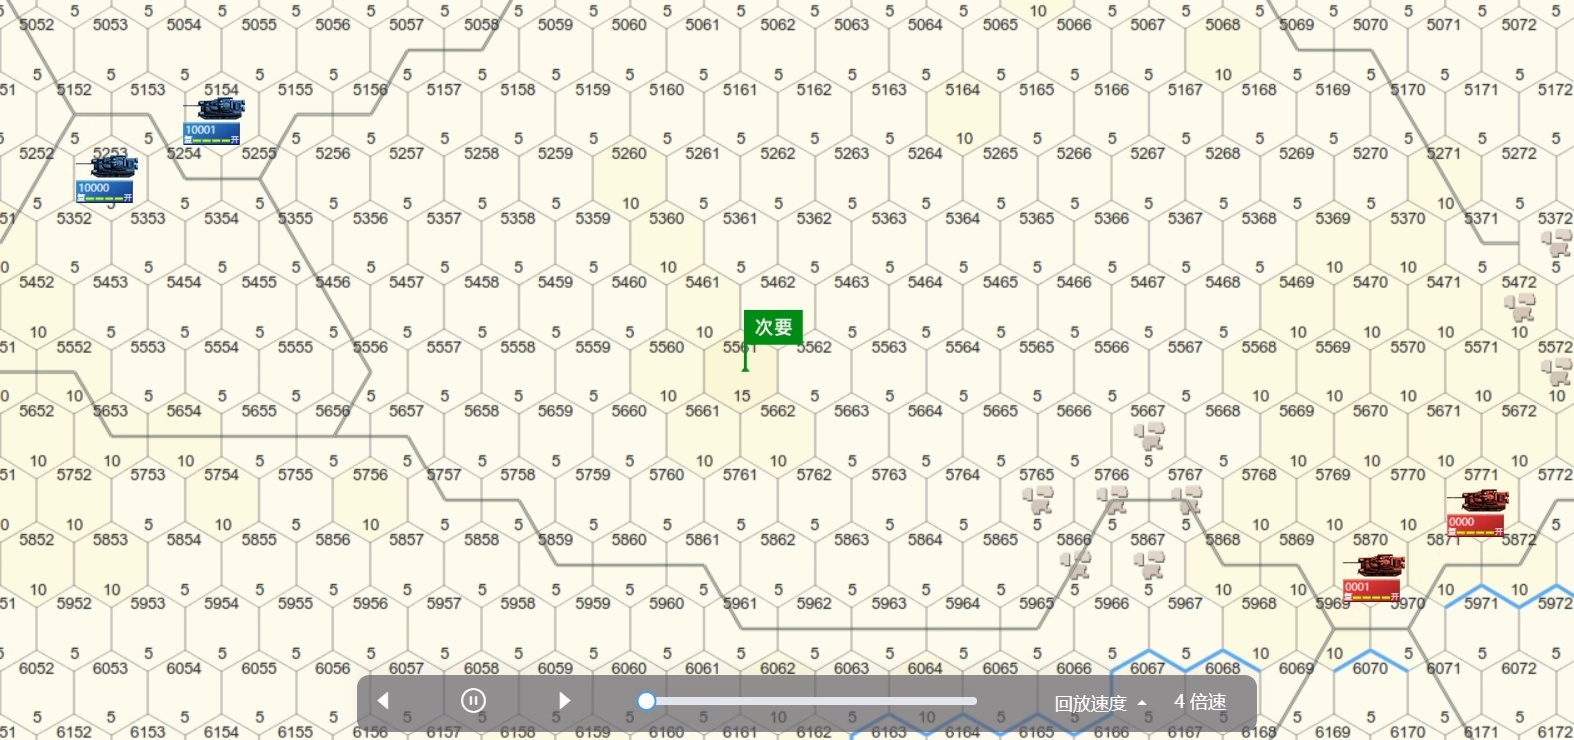blue_tank: (79, 158, 145, 208), (188, 98, 245, 143)
red_tank: (1445, 491, 1513, 540), (1344, 561, 1408, 605)
